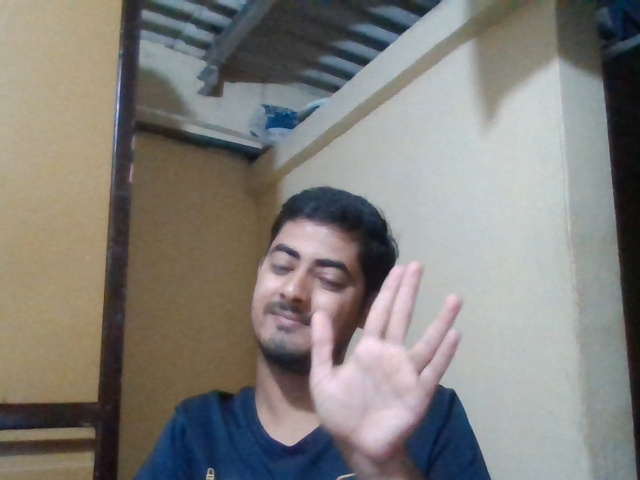LiveLong: (307, 263, 462, 456)
